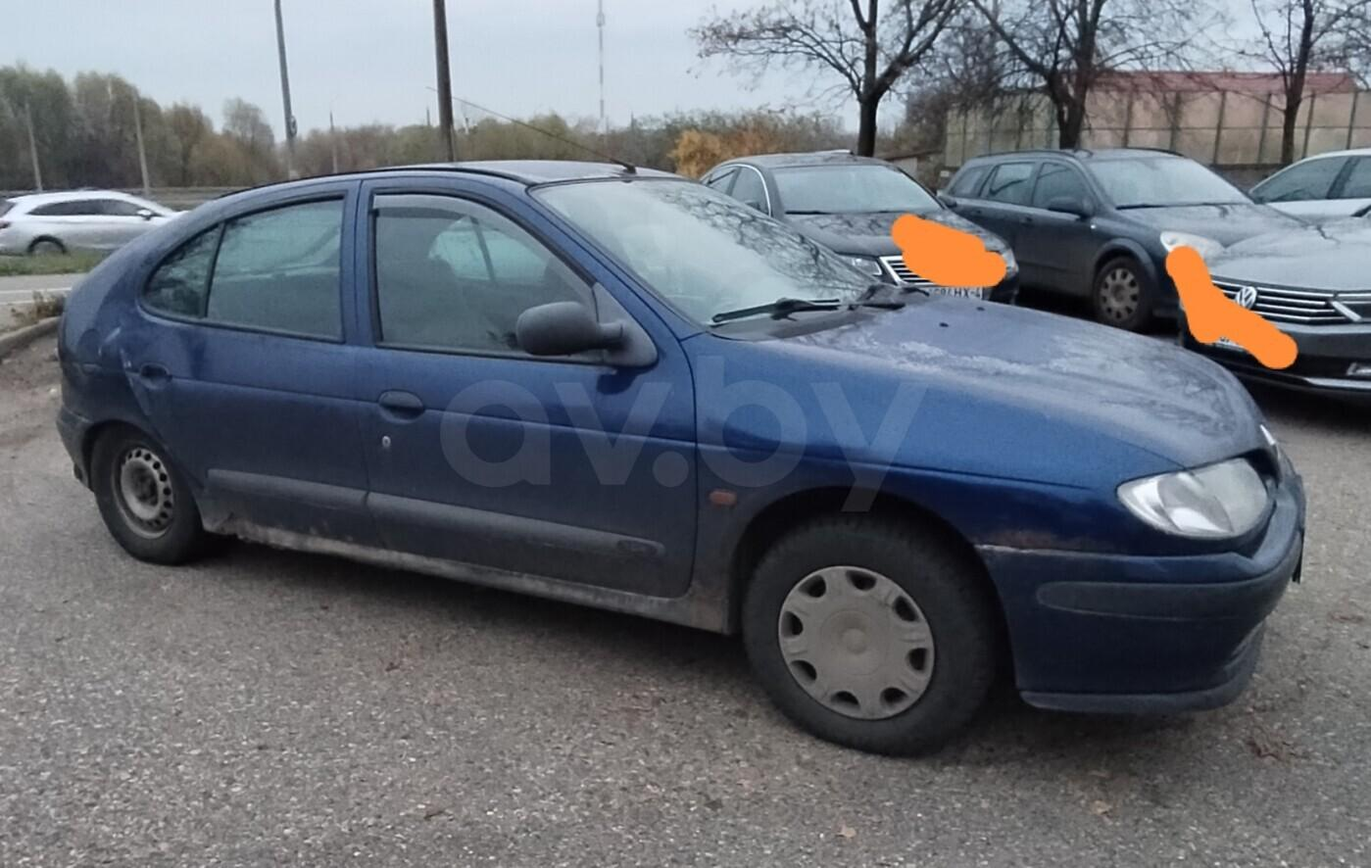Megane_1995-1999: (59, 146, 1298, 741)
